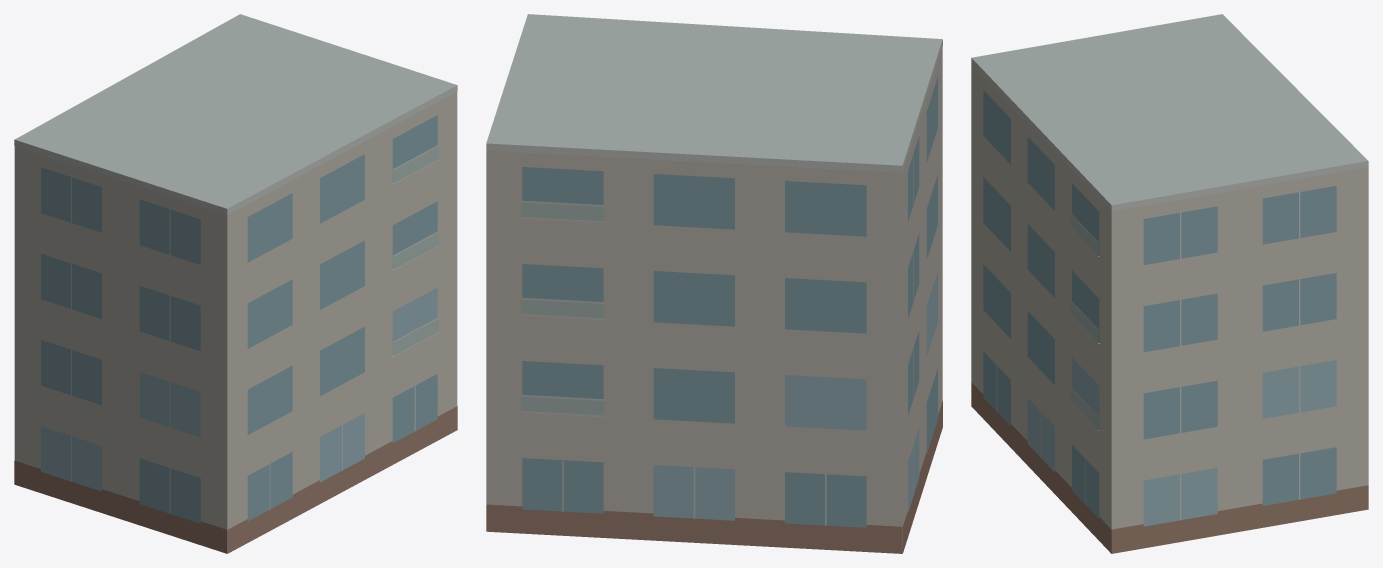
The model's file is survey-upis-32943783.glb.
The picture shows the model from 3 angles, left to right: view 1: azimuth 30°, elevation 25°; view 2: azimuth 150°, elevation 25°; view 3: azimuth 270°, elevation 25°; orthographic projection. The views are drawn at different scales.
Parts seen in each view (by area): view 1: survey-upis-32943783.tmp; view 2: survey-upis-32943783.tmp; view 3: survey-upis-32943783.tmp.
Boxes of the visible parts, x1,y1,x2,y2 form: survey-upis-32943783.tmp: (14, 14, 457, 553); survey-upis-32943783.tmp: (486, 14, 942, 553); survey-upis-32943783.tmp: (971, 14, 1368, 553).
Size of the model in its own units: 15.78 by 13.4 by 13.84.
